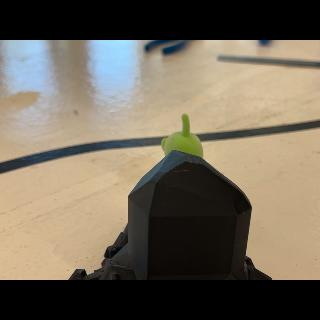teletubby: (161, 114, 203, 158)
